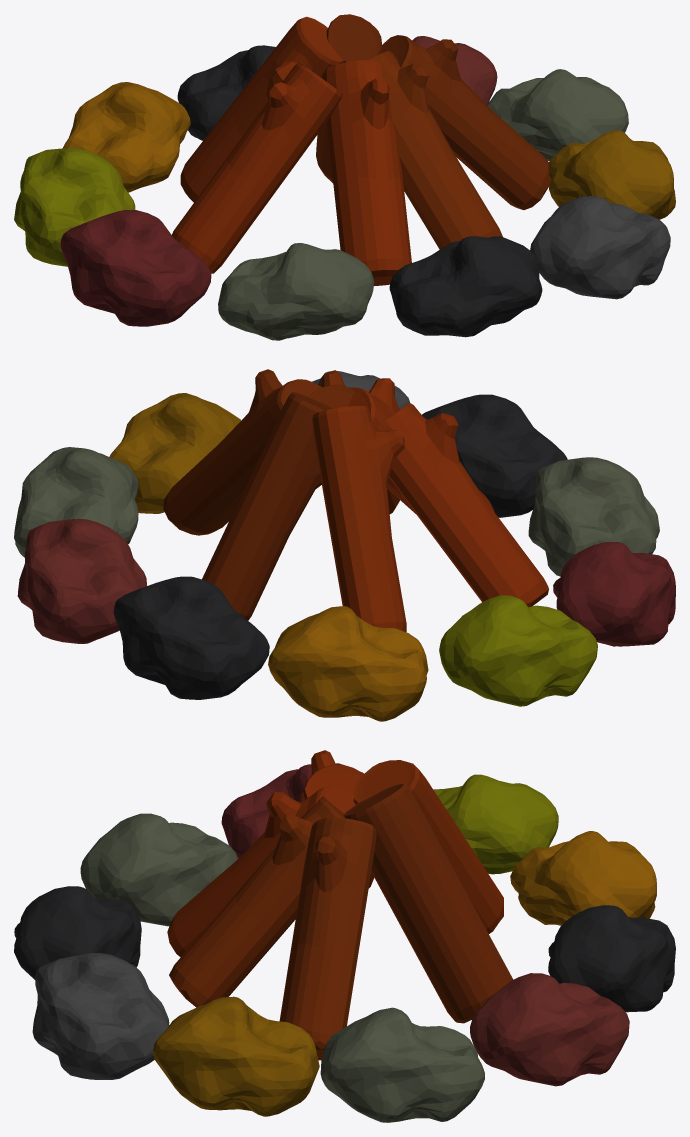
Rendered from Campfire.fbx.
3 views of the same model, one above another, from view 1: azimuth 30°, elevation 25°; view 2: azimuth 150°, elevation 25°; view 3: azimuth 270°, elevation 25° (orthographic). The views are drawn at different scales.
Visible parts, largest first — view 1: Camp Fire; view 2: Camp Fire; view 3: Camp Fire.
Part boxes in pixels (box(x1,y1,x2,y2)): Camp Fire: box(14, 14, 675, 340); Camp Fire: box(14, 369, 675, 721); Camp Fire: box(14, 750, 675, 1122).
Size of the model in its own units: 264 by 89.98 by 247.
